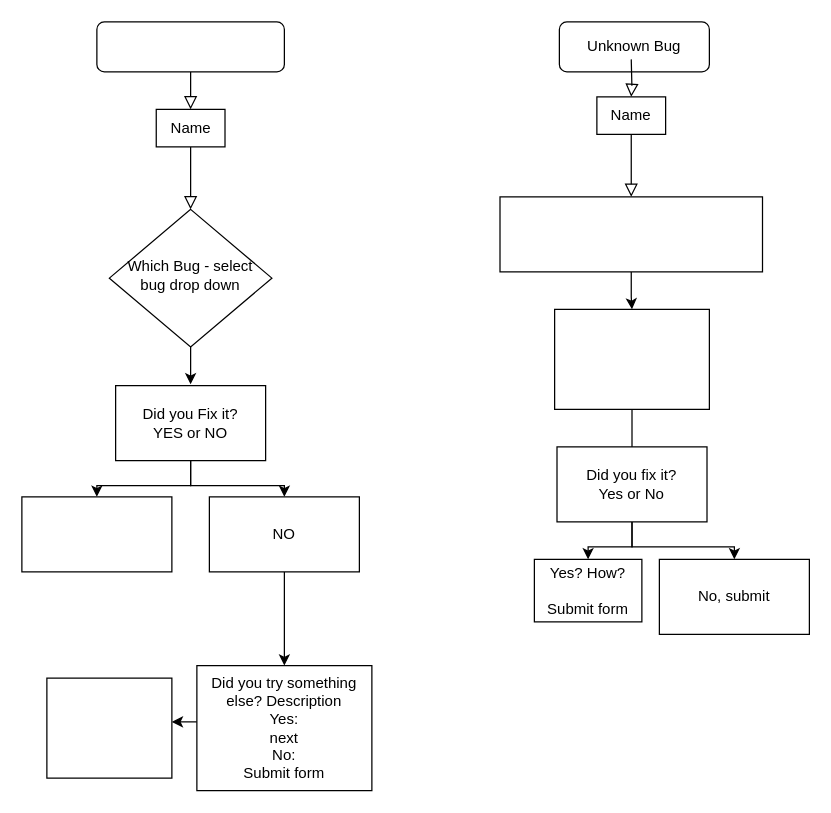
Some shapes in this 831 by 813 pixel diagram are drawn without their labels. Each missing label, with the centre of its shape:
"Complete report: UUID Browser Device Anything pertinent" belongs at [631,358].
"Did that fix it? Submit form" belongs at [109,727].
"How severe is the bug/issue Drop down" belongs at [630,234].
"Known Bug" belongs at [190,46].
"Yes: Submit Form" belongs at [96,534].
